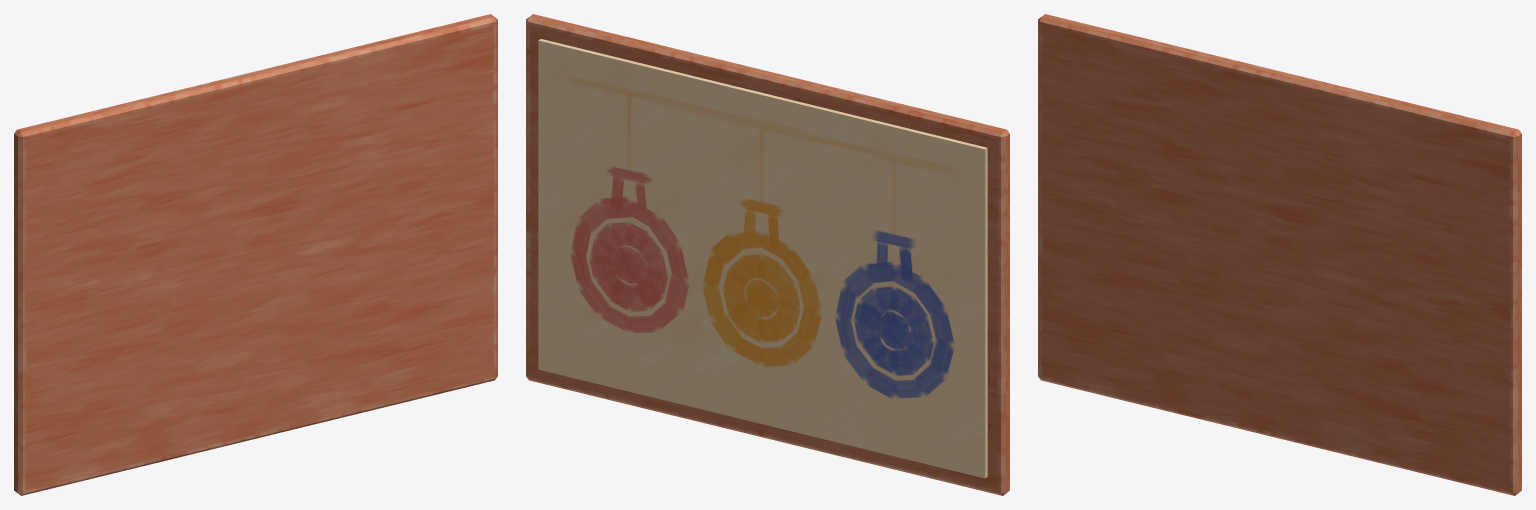
Rendered from sign_dye_body.fbx.
3 renders of one model, left to right at view 1: azimuth 30°, elevation 25°; view 2: azimuth 150°, elevation 25°; view 3: azimuth 330°, elevation 25°, orthographic.
Parts seen in each view (by area): view 1: sign_dye_body; view 2: sign_dye_body; view 3: sign_dye_body.
Boxes of the visible parts, x1,y1,x2,y2 form: sign_dye_body: [14, 14, 497, 495]; sign_dye_body: [526, 14, 1009, 495]; sign_dye_body: [1038, 14, 1521, 495].
Bounding box in the file's own units: 5.8 × 4.2 × 0.21.
